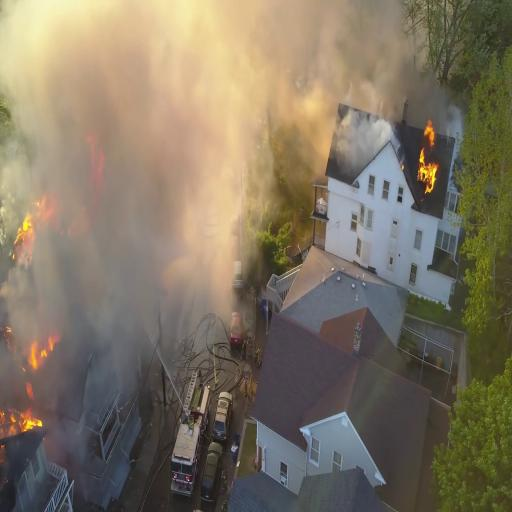fire: (0, 392, 41, 442), (19, 329, 56, 369), (417, 118, 433, 194)
smoke: (6, 0, 162, 240), (336, 110, 398, 171)
